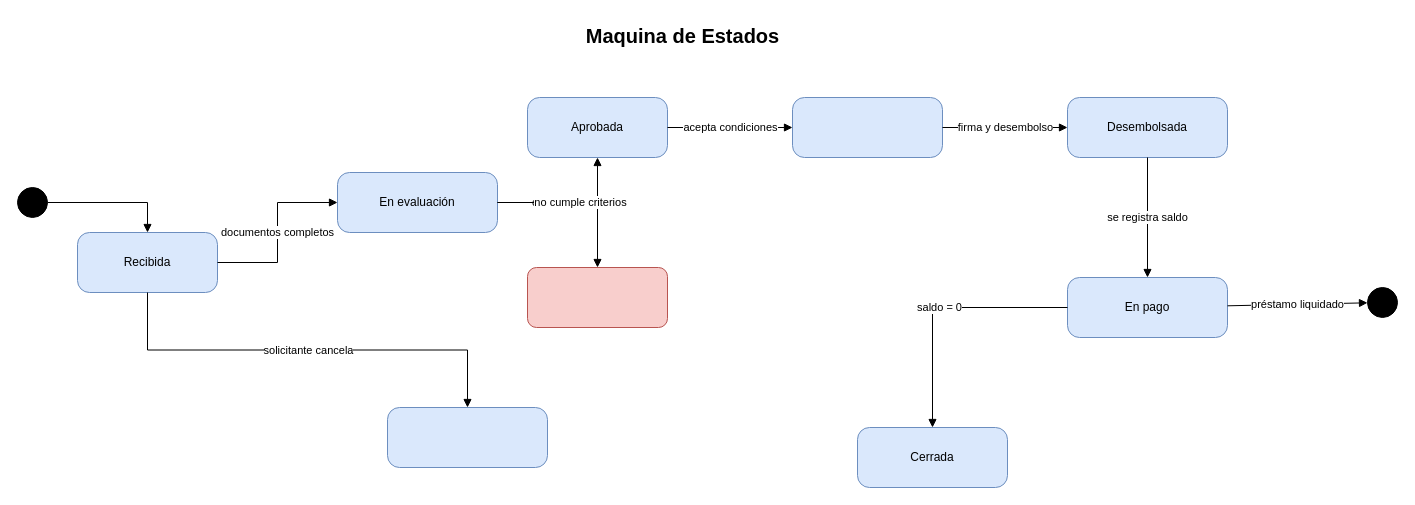
Some shapes in this 1415 by 505 pixel diagram are drawn without their labels. Each missing label, with the centre of its shape:
"Cancelada" goes at (x=467, y=437).
"Formalizada" goes at (x=867, y=127).
"Rechazada" goes at (x=597, y=297).
